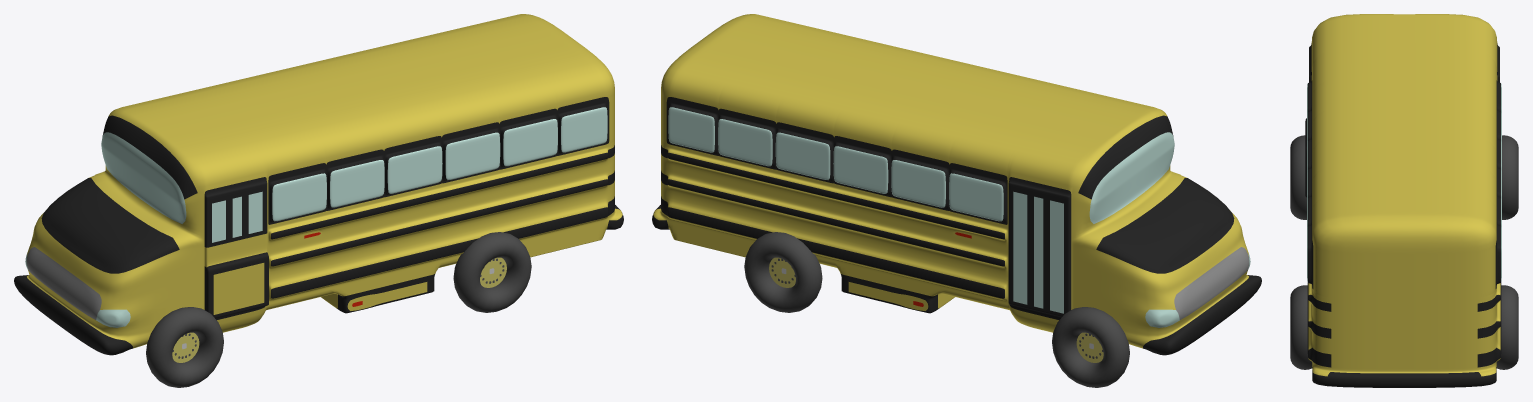
Rendered from runaway_items_bus.fbx.
3 views of the same model, side by side, from view 1: azimuth 30°, elevation 25°; view 2: azimuth 150°, elevation 25°; view 3: azimuth 270°, elevation 25° (orthographic).
Parts seen in each view (by area): view 1: Cube, Torus.001, Torus.003, Cube.001, Cube.002; view 2: Cube, Torus.000, Torus.002, Cube.004, Cube.003; view 3: Cube, Torus.003, Torus.002, Torus.000, Torus.001.
Boxes of the visible parts, bbox=[...] form: Cube: bbox=[14, 14, 623, 355]; Torus.001: bbox=[146, 307, 223, 387]; Torus.003: bbox=[453, 232, 531, 312]; Cube.001: bbox=[172, 332, 199, 362]; Cube.002: bbox=[480, 257, 506, 287]; Cube: bbox=[652, 14, 1261, 355]; Torus.000: bbox=[1052, 307, 1129, 387]; Torus.002: bbox=[744, 232, 822, 312]; Cube.004: bbox=[1076, 332, 1103, 362]; Cube.003: bbox=[769, 257, 795, 287]; Cube: bbox=[1305, 14, 1501, 387]; Torus.003: bbox=[1290, 285, 1312, 369]; Torus.002: bbox=[1496, 285, 1518, 369]; Torus.000: bbox=[1502, 135, 1518, 219]; Torus.001: bbox=[1290, 135, 1306, 219].
Size of the model in its own units: 860 by 330 by 322.
